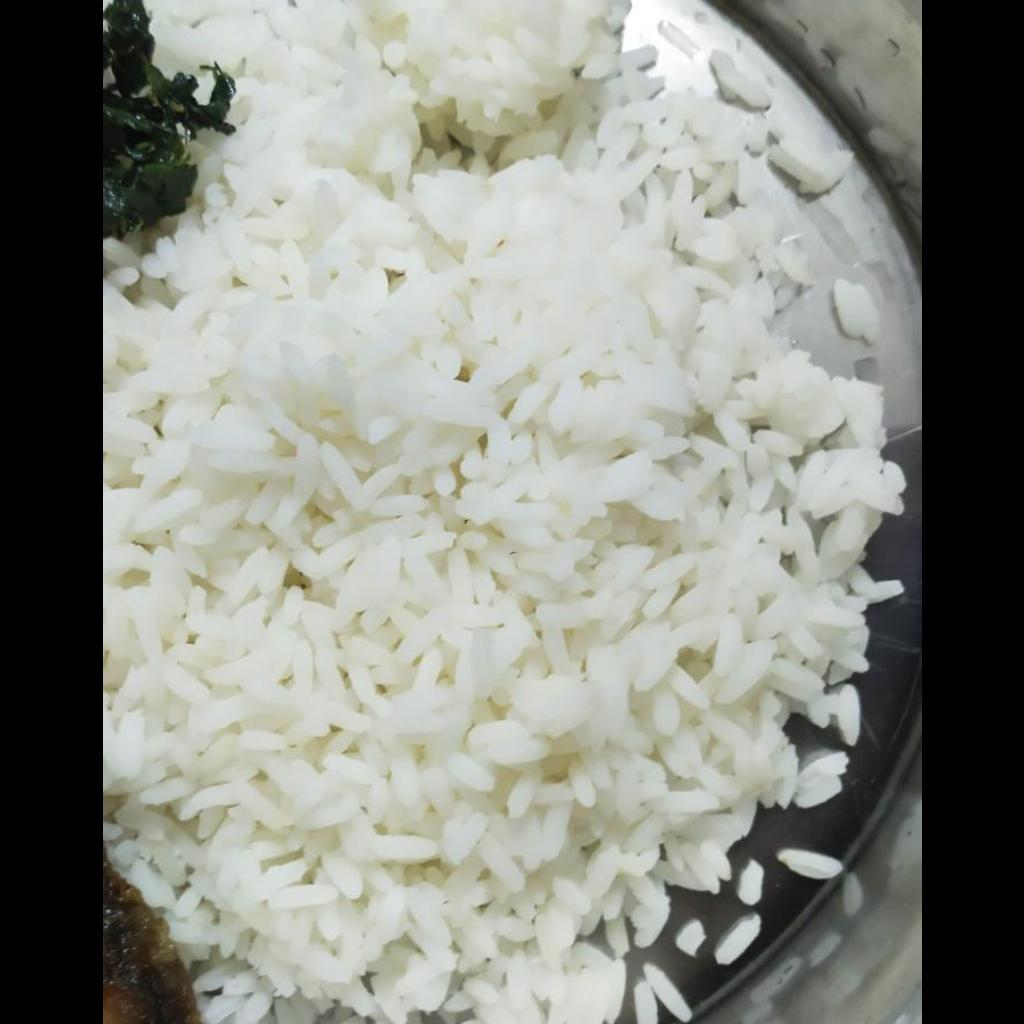rice: (102, 1, 907, 1023)
shak: (102, 0, 234, 239)
